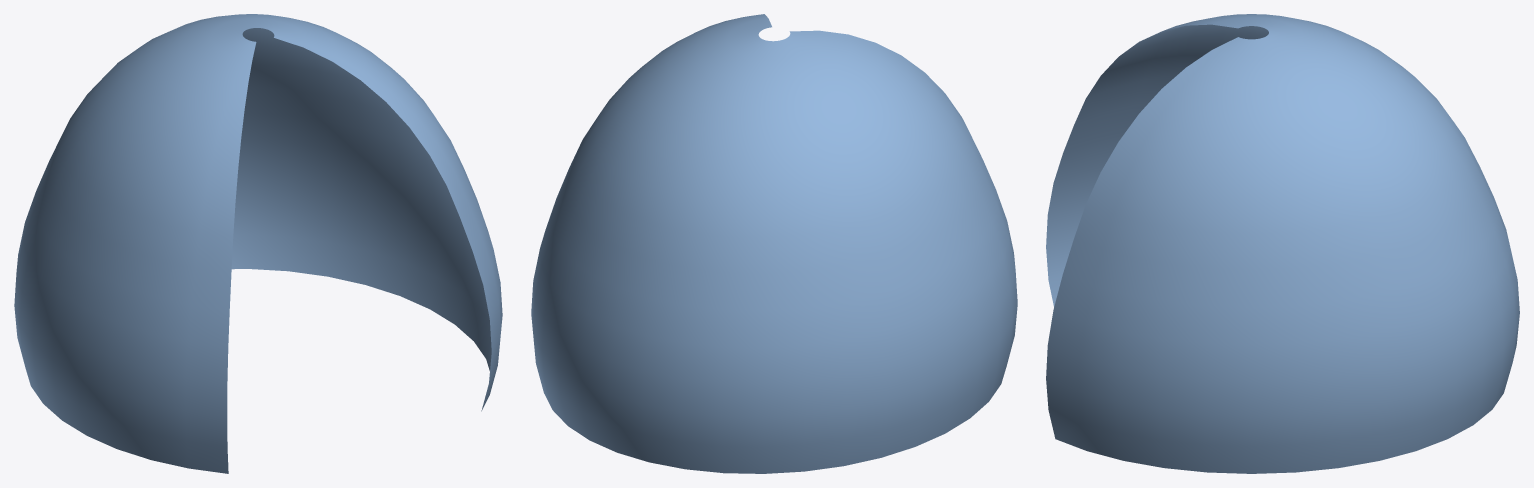
File: frost-hood.gltf
3 views of the same model, side by side, from view 1: azimuth 30°, elevation 25°; view 2: azimuth 150°, elevation 25°; view 3: azimuth 270°, elevation 25° (orthographic). The views are drawn at different scales.
Parts seen in each view (by area): view 1: frost-hood; view 2: frost-hood; view 3: frost-hood.
Boxes of the visible parts, bbox=[...] form: frost-hood: bbox=[14, 14, 502, 473]; frost-hood: bbox=[531, 14, 1017, 473]; frost-hood: bbox=[1046, 14, 1519, 473].
Bounding box in the file's own units: 0.2748 × 0.2154 × 0.2692.
